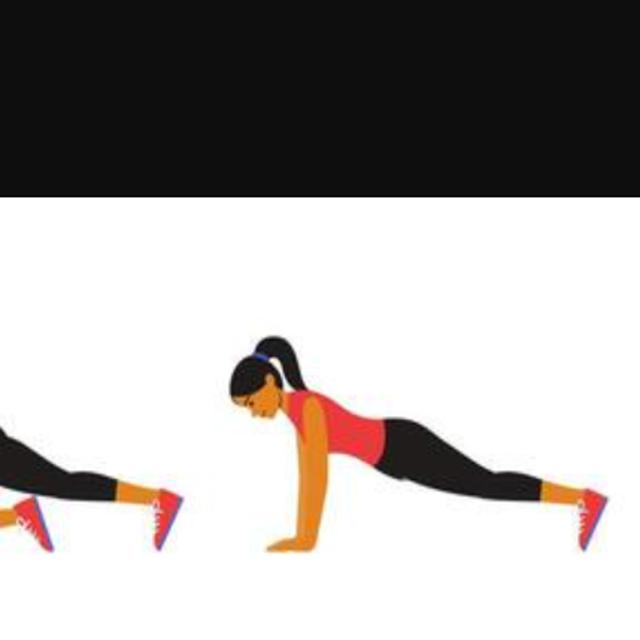Plank_Pose: (229, 330, 622, 563)
